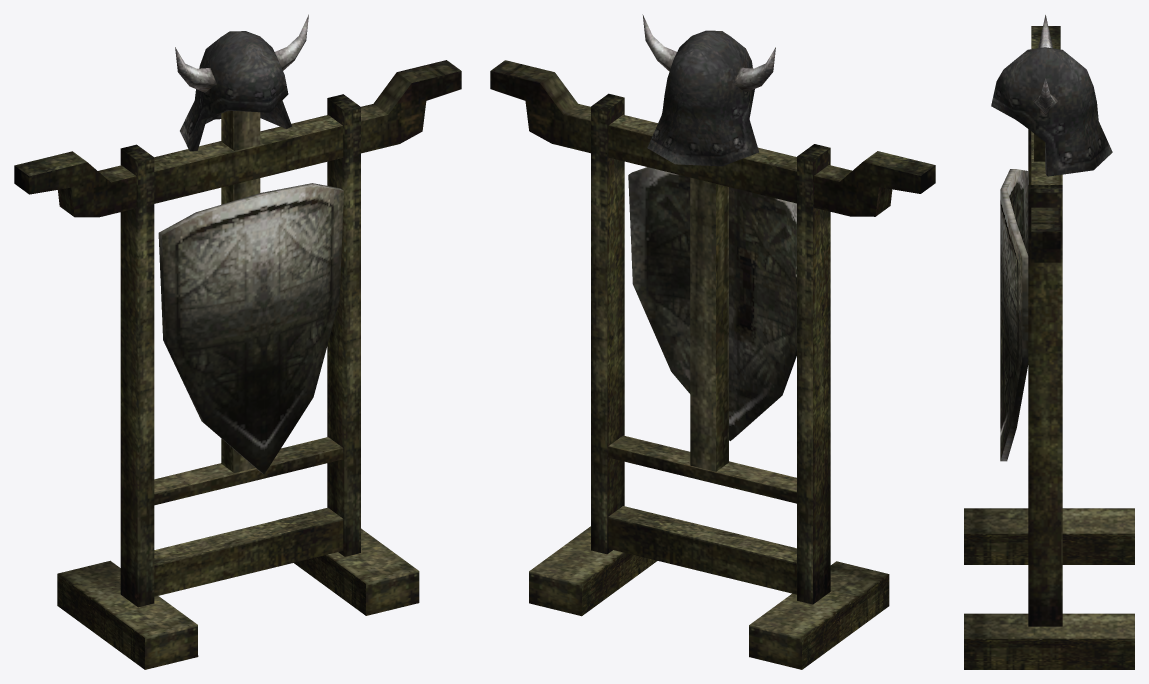
Rendered from ep_b_general_obj_33.fbx.
The picture shows the model from 3 angles, left to right: view 1: azimuth 30°, elevation 25°; view 2: azimuth 150°, elevation 25°; view 3: azimuth 270°, elevation 25°; orthographic projection. The views are drawn at different scales.
Parts seen in each view (by area): view 1: ep_B_general_obj_33; view 2: ep_B_general_obj_33; view 3: ep_B_general_obj_33.
Boxes of the visible parts, left/top/right/bottom form: ep_B_general_obj_33: left=14, top=14, right=461, bottom=669; ep_B_general_obj_33: left=490, top=14, right=935, bottom=669; ep_B_general_obj_33: left=964, top=15, right=1134, bottom=669.
Bounding box in the file's own units: 1.94 × 2.46 × 0.6819.
